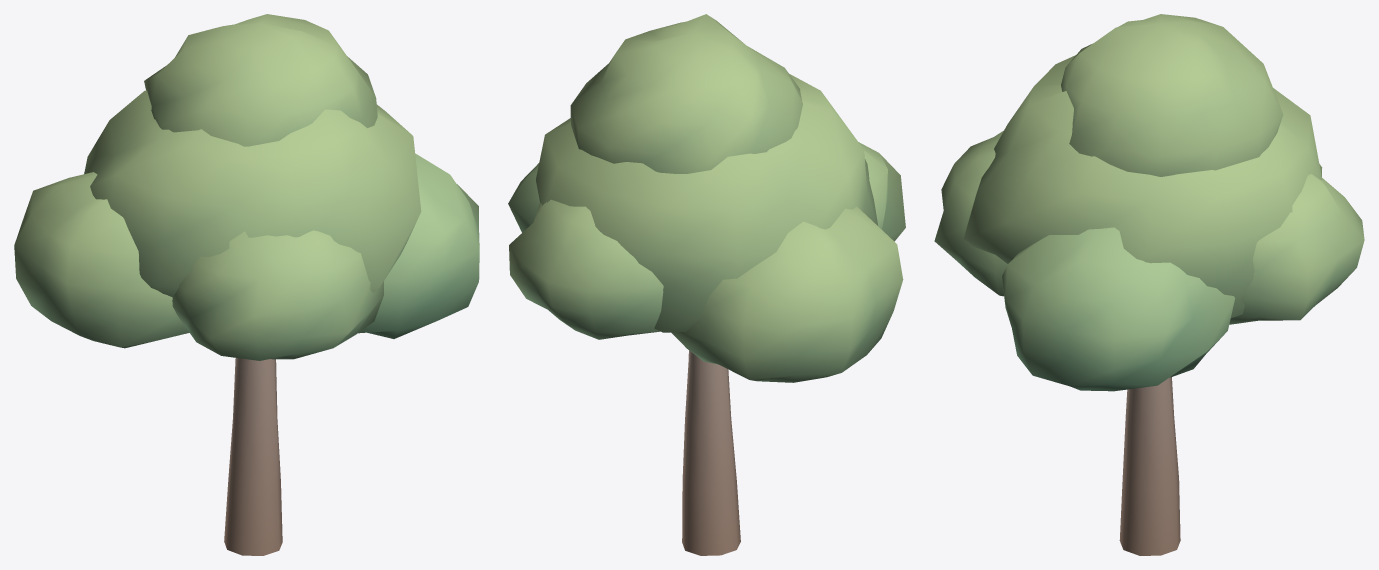
Rendered from laubbaum_gross.glb.
3 views of the same model, side by side, from view 1: azimuth 30°, elevation 25°; view 2: azimuth 150°, elevation 25°; view 3: azimuth 270°, elevation 25° (orthographic). The views are drawn at different scales.
Parts seen in each view (by area): view 1: laubbaum_gross2; view 2: laubbaum_gross2; view 3: laubbaum_gross2.
Boxes of the visible parts, x1,y1,x2,y2 form: laubbaum_gross2: (14, 14, 479, 555); laubbaum_gross2: (508, 14, 905, 555); laubbaum_gross2: (934, 14, 1364, 555).
Size of the model in its own units: 6.16 by 7.6 by 5.63.
